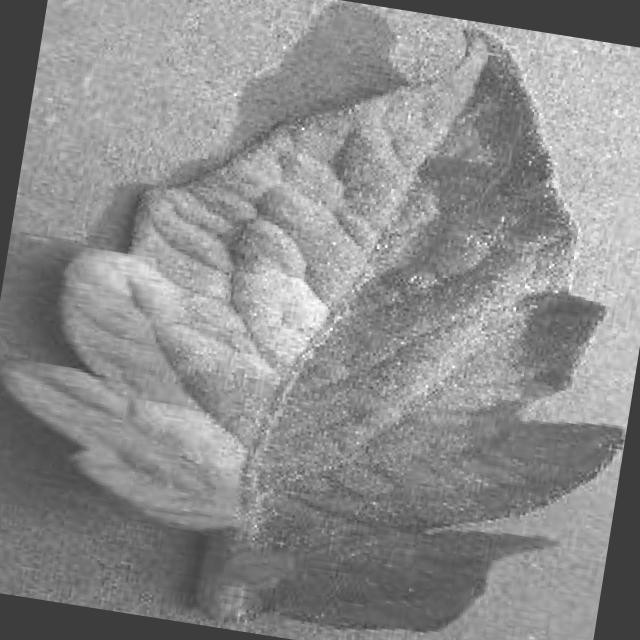leaf mold: (0, 23, 622, 631)
